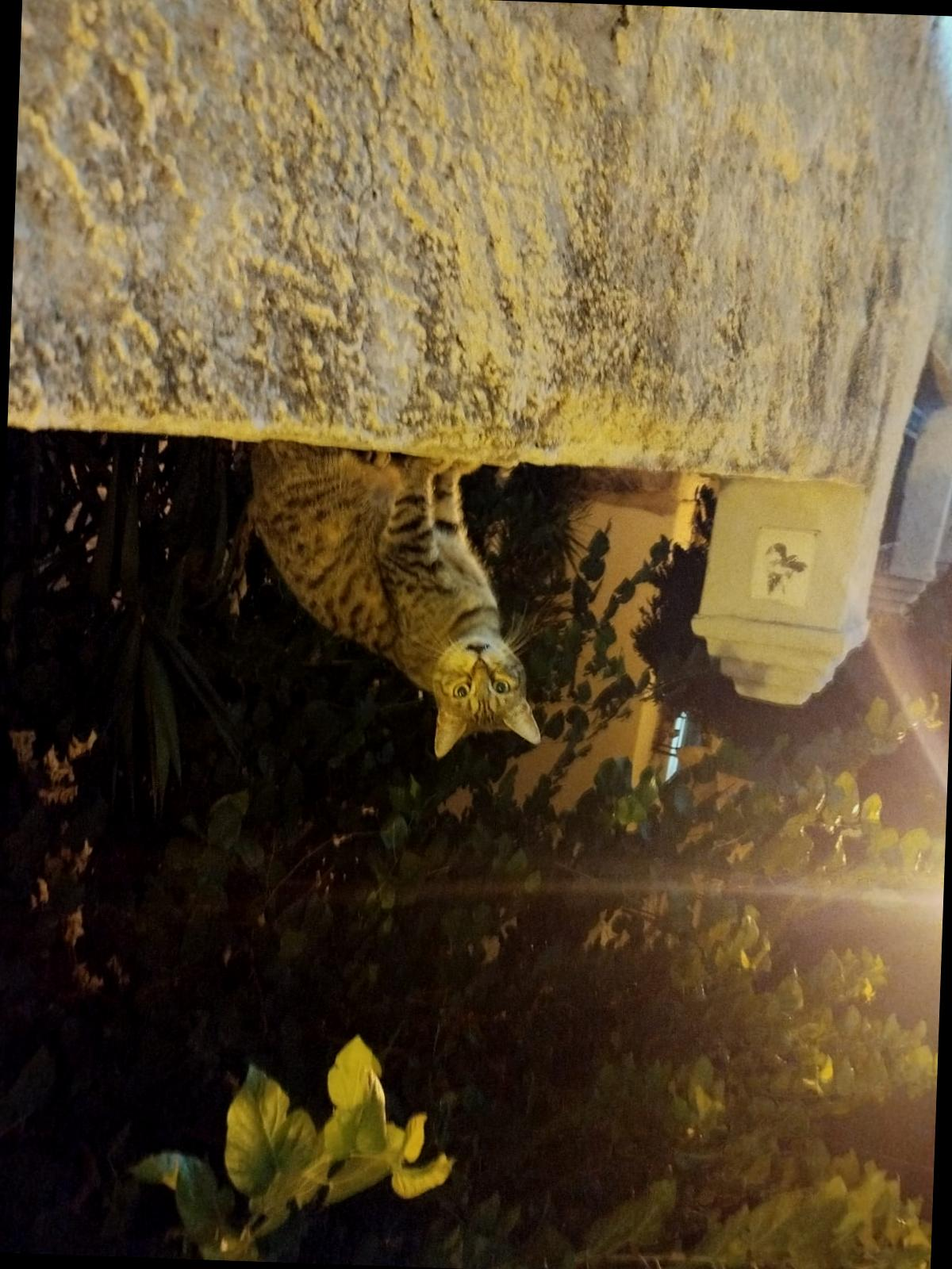macka: (240, 443, 551, 765)
